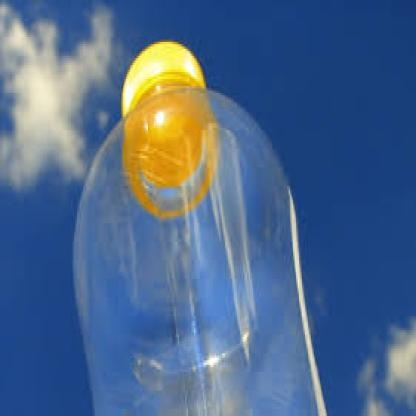trash: (74, 42, 325, 415)
